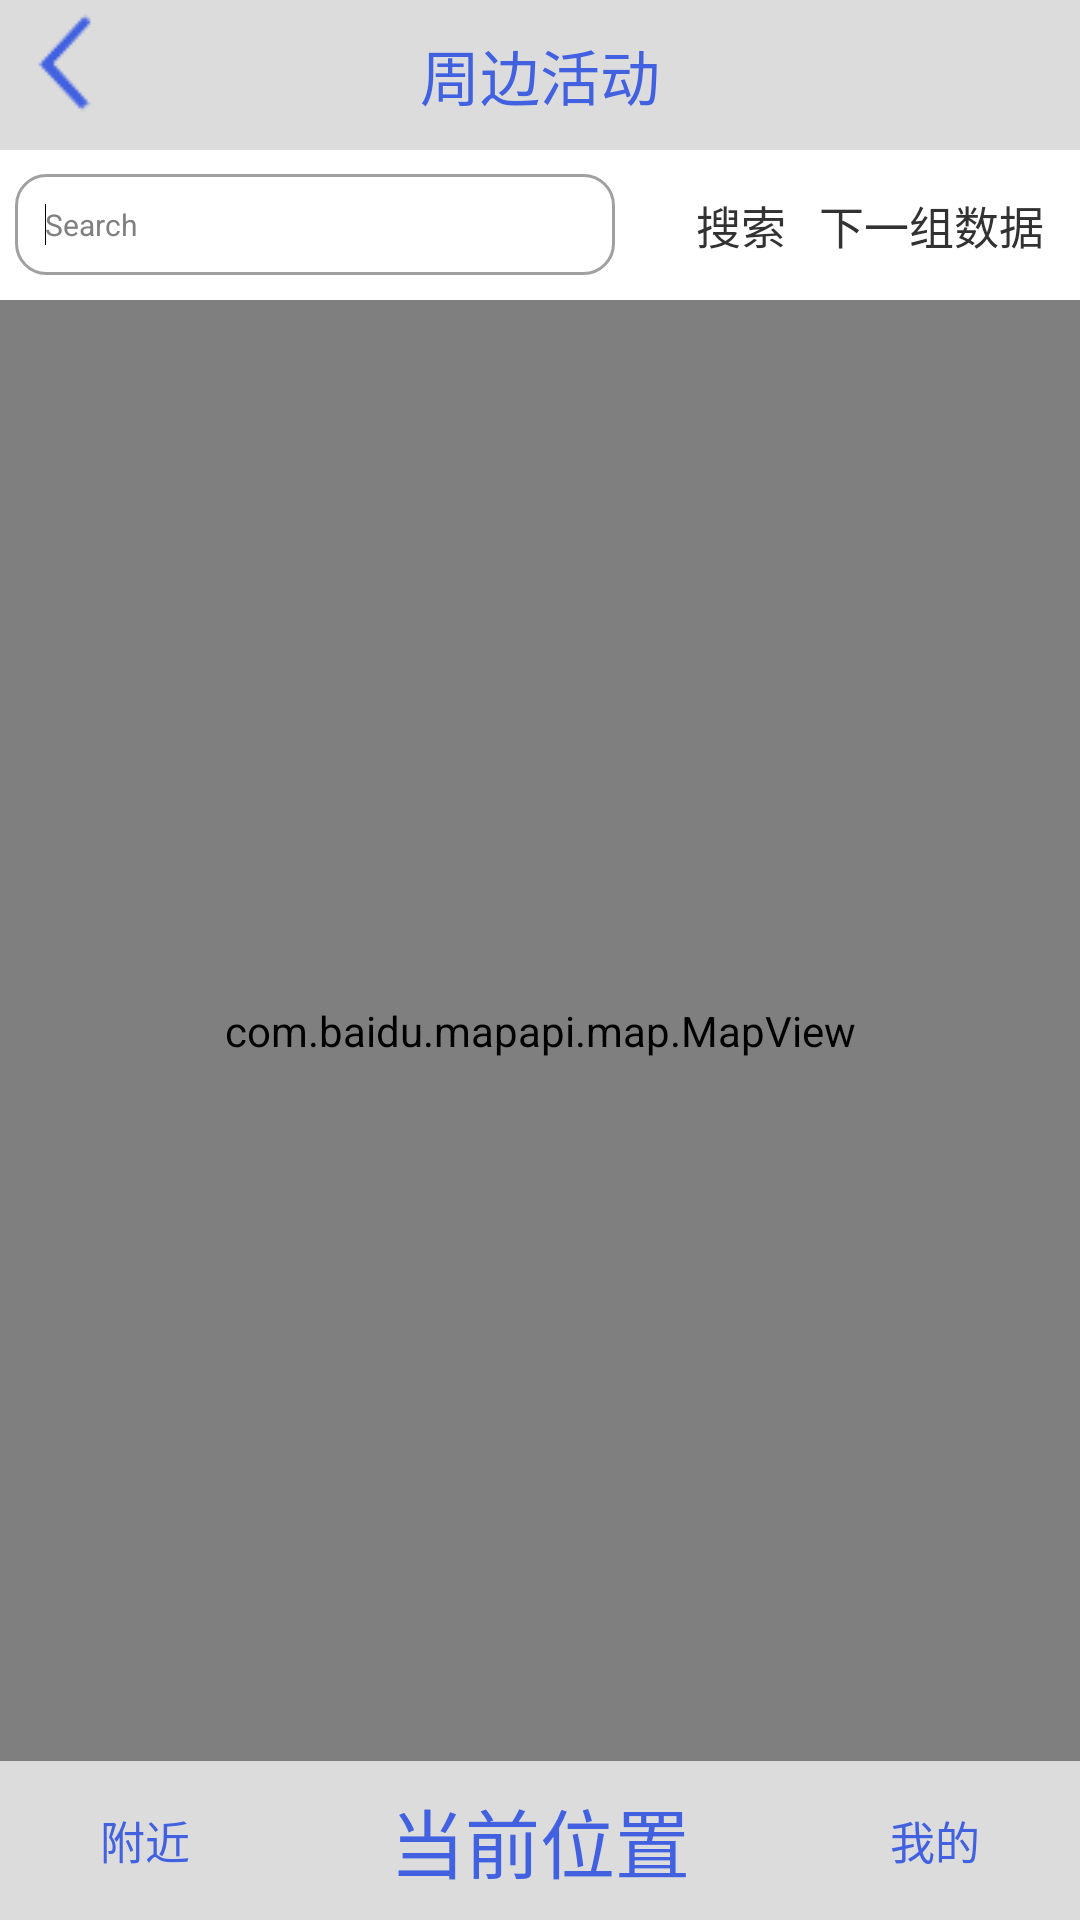

Point at icon controls on the screen. Image size 1080*1920, points as point (x, y).
arrow: point (64, 63)
